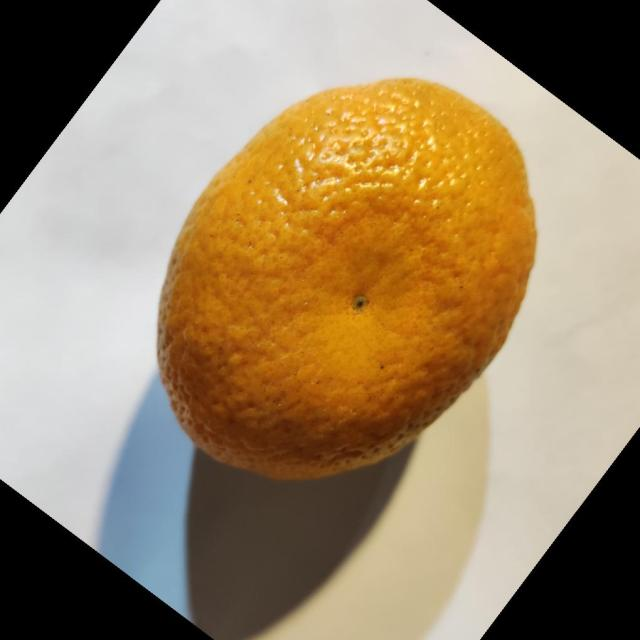fresh orange: (155, 76, 538, 482)
